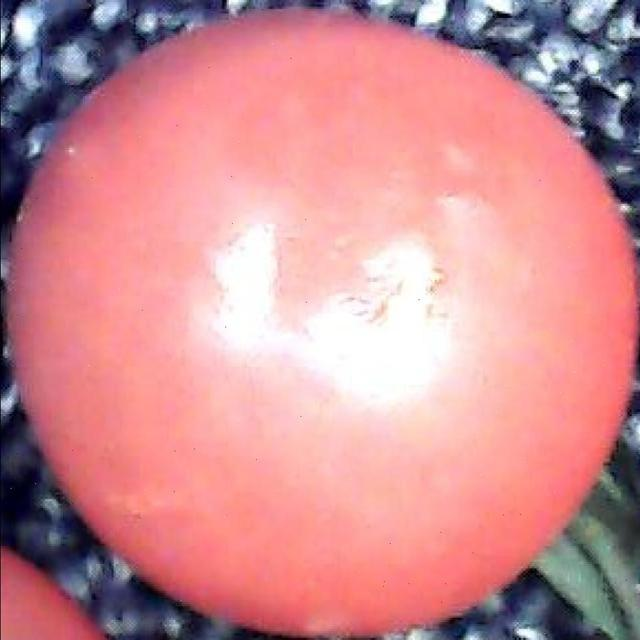Healthy Fruit: (9, 32, 408, 424)
